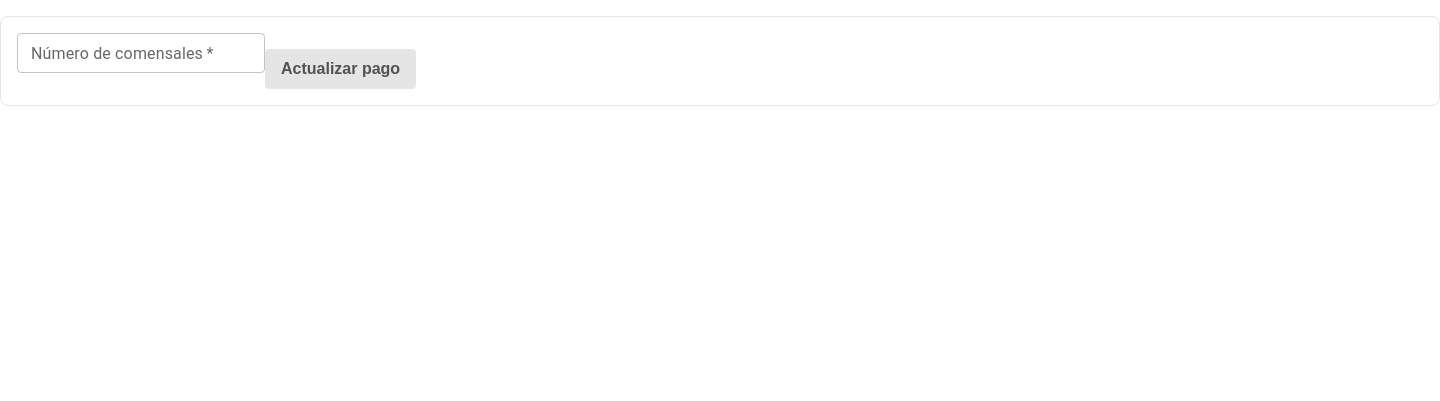
Test: accepts a missing diner count, allocates units separately and saves from the form
Type "2" into the number field labelled "Número de comensales *" at [141, 53], box [17, 33, 265, 73]
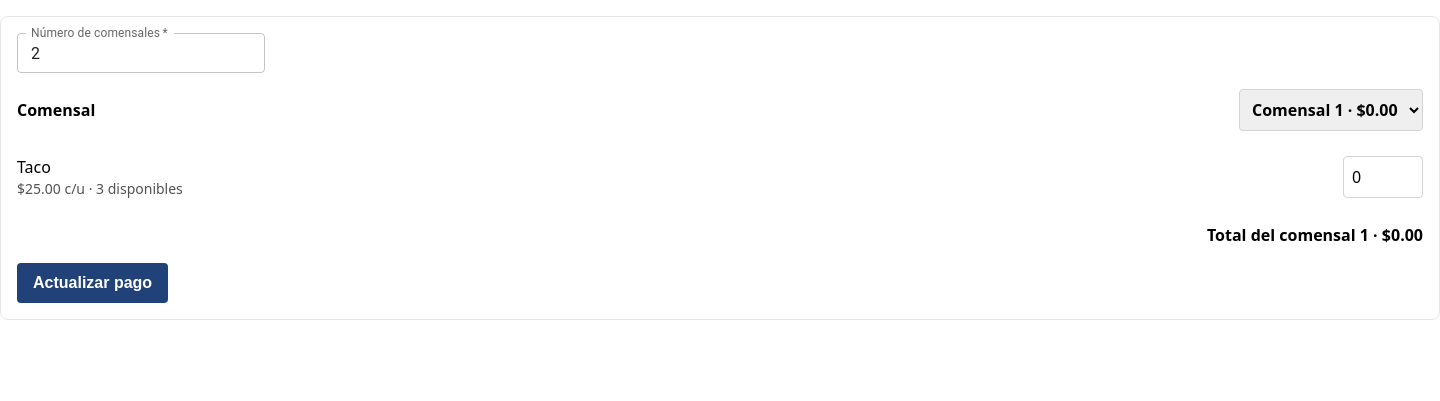
Replace the text in the number field labelled "Taco $25.00 c/u · 3 disponibles" with "2" at [1383, 177], box [1343, 156, 1423, 198]
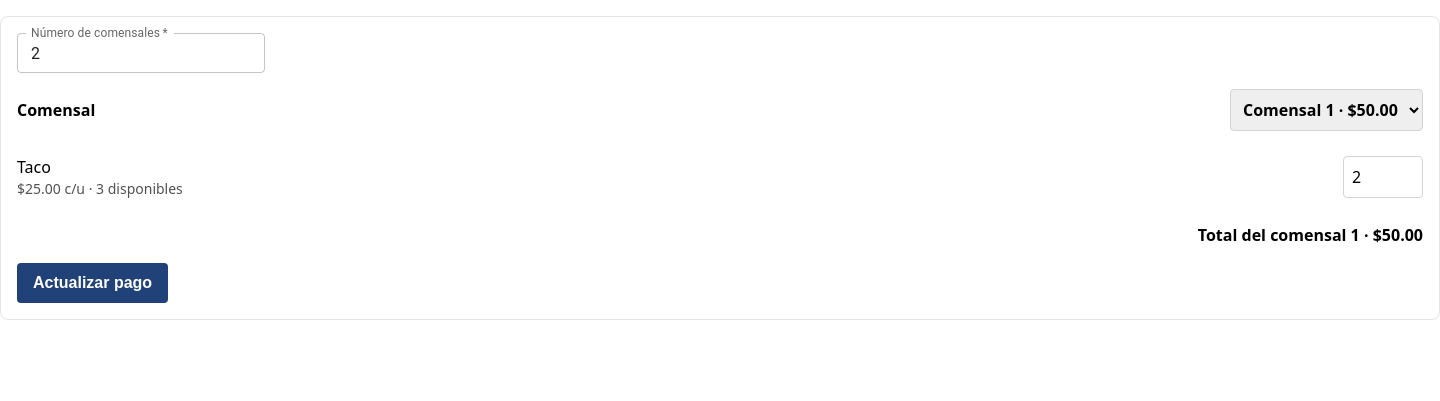
Select "Comensal 2 · $0.00" in the dropdown labelled "Comensal" at [1326, 110], box [1230, 89, 1423, 131]
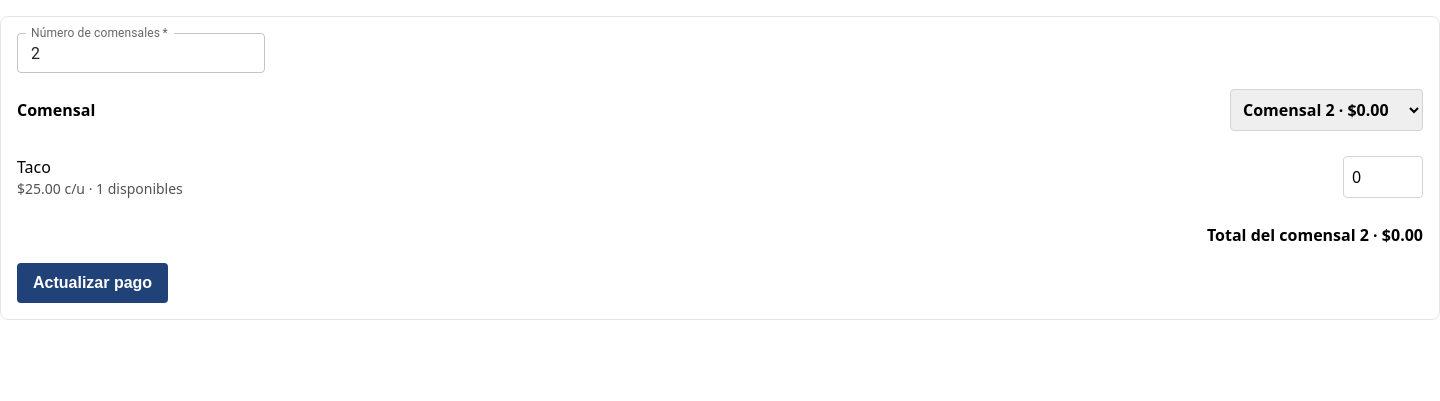
expect the number field labelled "Taco $25.00 c/u · 1 disponibles" has attribute max="1": met
Replace the text in the number field labelled "Taco $25.00 c/u · 1 disponibles" with "1" at [1383, 177], box [1343, 156, 1423, 198]
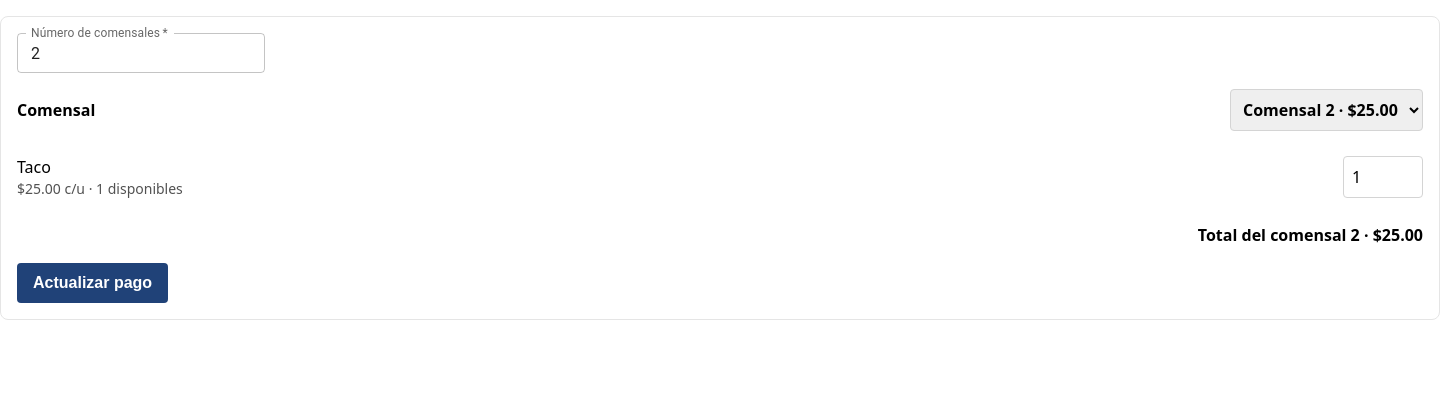
Click the button "Actualizar pago" at [93, 283], box [17, 263, 168, 303]
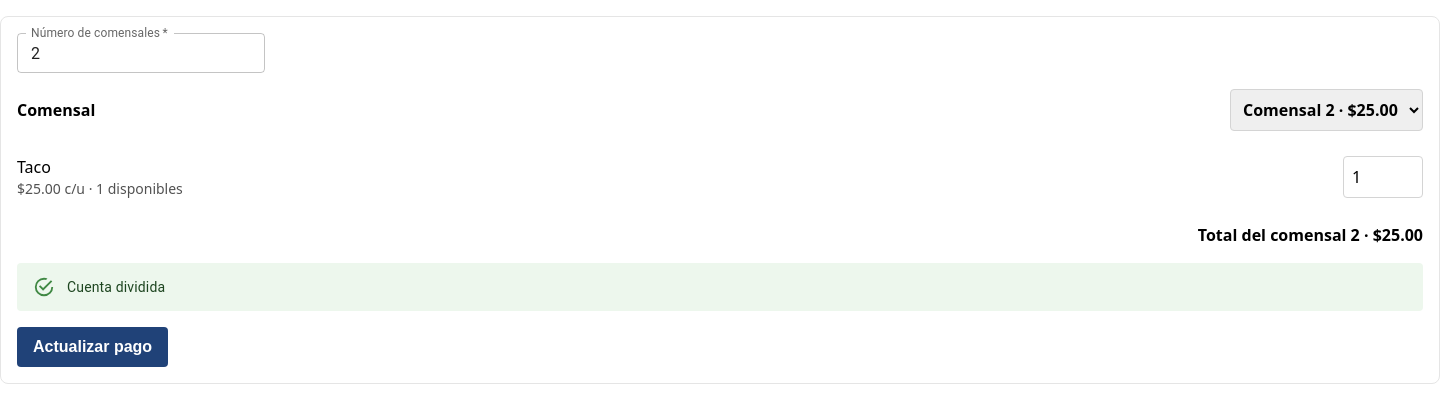
expect the text "Cuenta dividida" is shown: met, box [67, 279, 165, 295]
